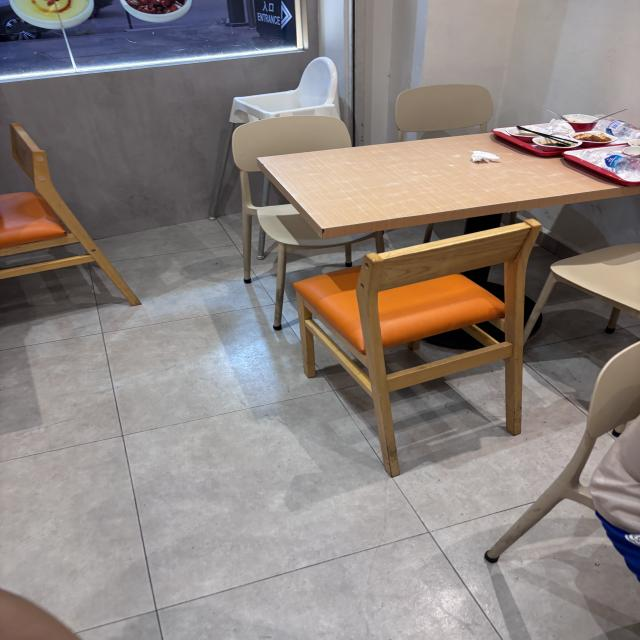Chair: (290, 206, 548, 489), (1, 112, 157, 331)
